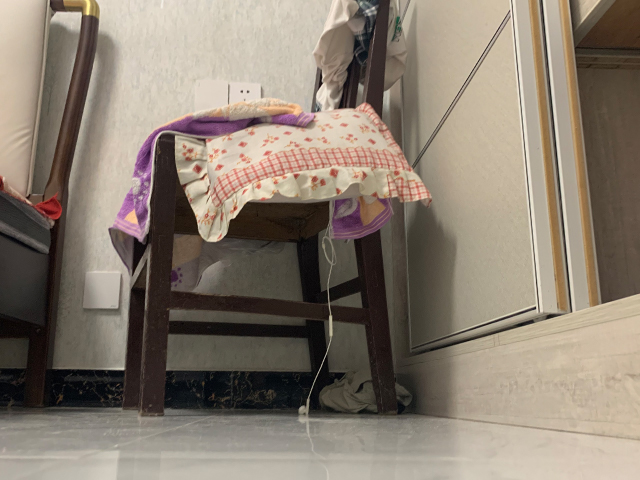cabinet: (389, 1, 640, 442)
stool: (109, 1, 398, 419)
wire: (297, 200, 338, 417)
